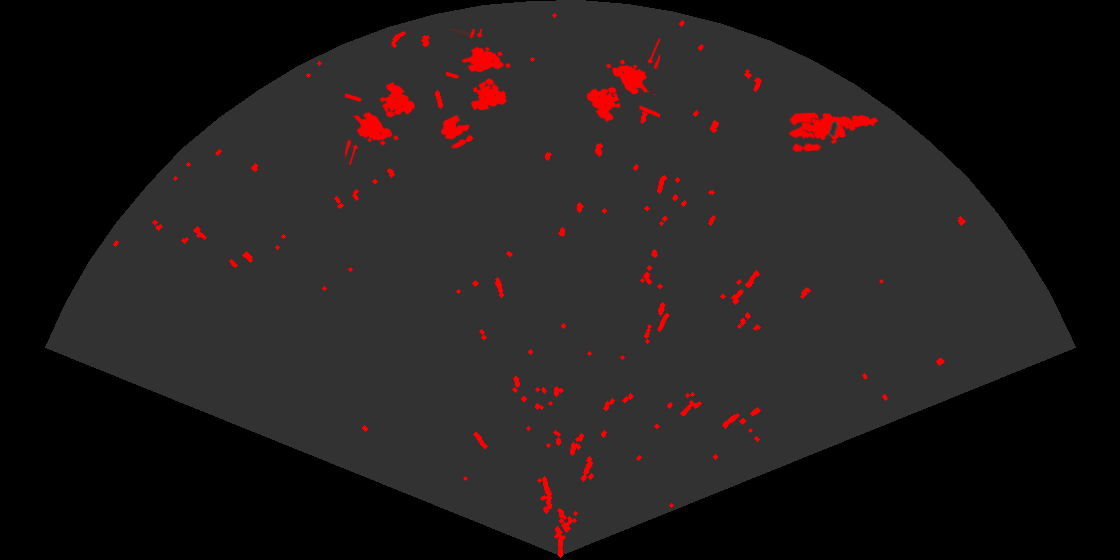ball: (787, 111, 827, 153), (439, 114, 475, 150)
cage: (585, 38, 660, 124), (345, 80, 417, 165), (446, 29, 512, 112)
frogman: (802, 111, 880, 146)
